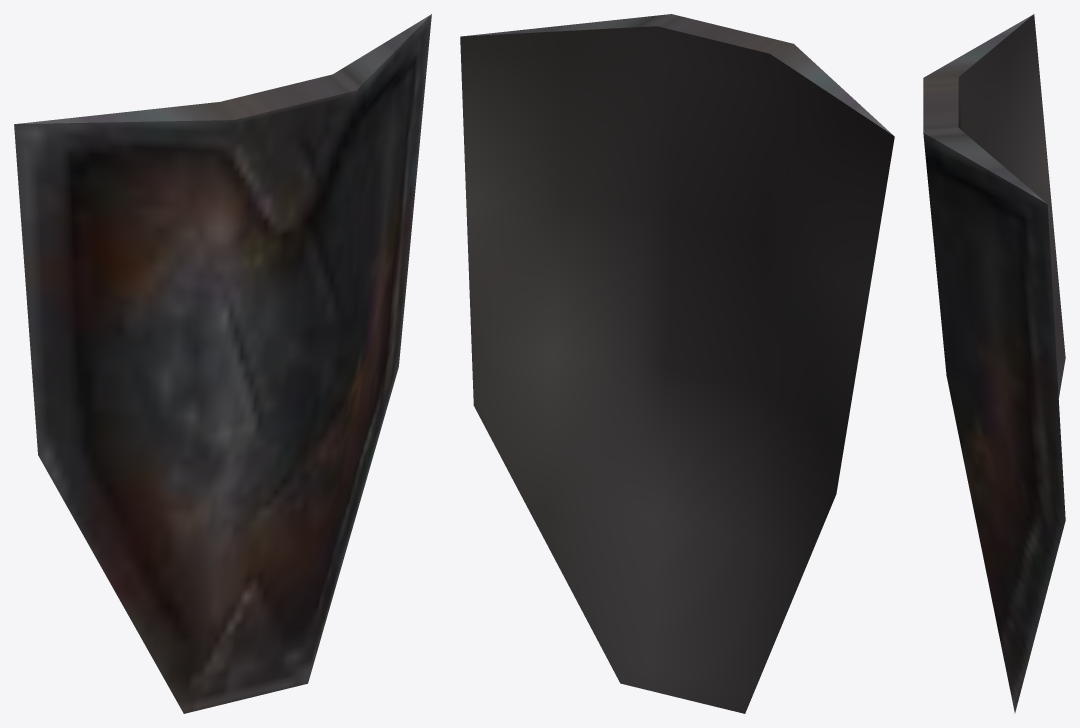
3 views of the same model, side by side, from view 1: azimuth 30°, elevation 25°; view 2: azimuth 150°, elevation 25°; view 3: azimuth 270°, elevation 25° (orthographic). The views are drawn at different scales.
Parts seen in each view (by area): view 1: model_Object75; view 2: model_Object75; view 3: model_Object75.
Part boxes in pixels (x1,y1,x2,y2): model_Object75: (14, 14, 431, 713); model_Object75: (460, 14, 894, 713); model_Object75: (923, 14, 1065, 712).
Size of the model in its own units: 0.667 by 0.9492 by 0.2099.
1 material, 1 textured.
